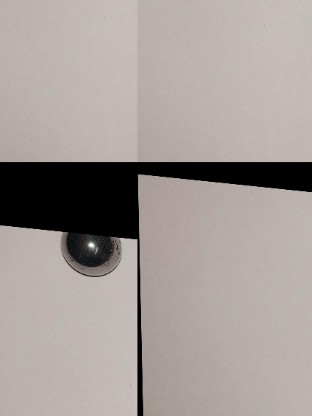ironball: (61, 230, 121, 284)
